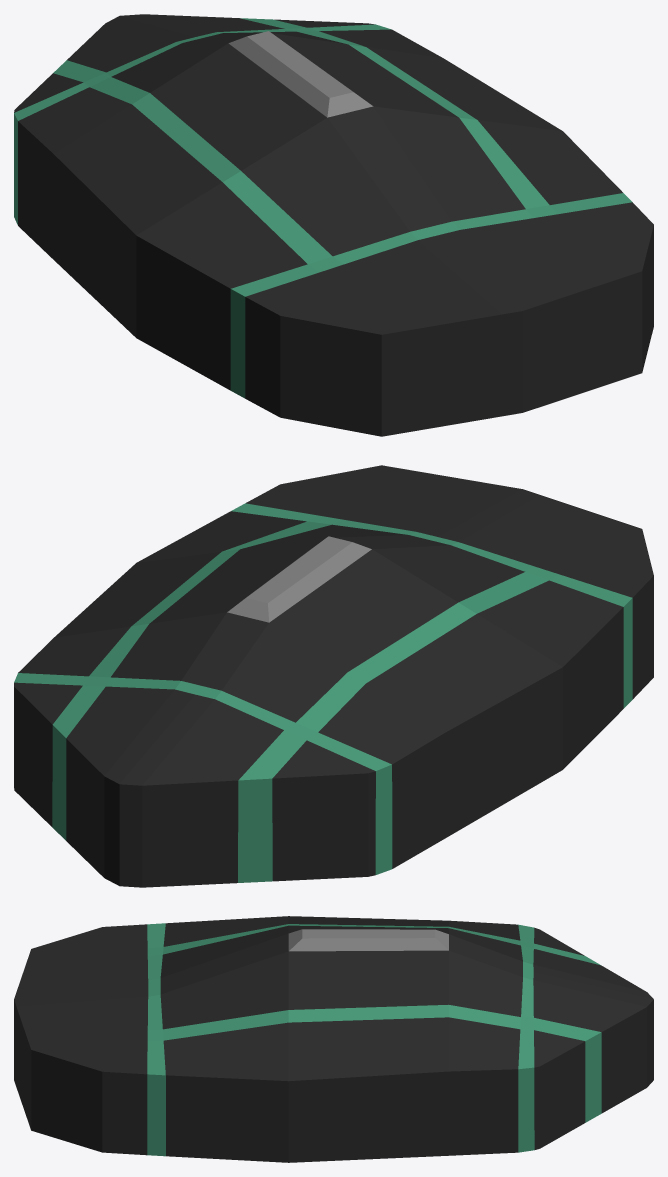
The model's file is Mouse_2.fbx.
3 renders of one model, top to bottom at view 1: azimuth 30°, elevation 25°; view 2: azimuth 150°, elevation 25°; view 3: azimuth 270°, elevation 25°, orthographic. The views are drawn at different scales.
Visible parts, largest first — view 1: Mouse_2; view 2: Mouse_2; view 3: Mouse_2.
Part boxes in pixels (left/top/right/bottom): Mouse_2: left=14, top=14, right=653, bottom=436; Mouse_2: left=14, top=465, right=653, bottom=887; Mouse_2: left=14, top=916, right=653, bottom=1162.
Bounding box in the file's own units: 0.0385 × 0.0159 × 0.063.
